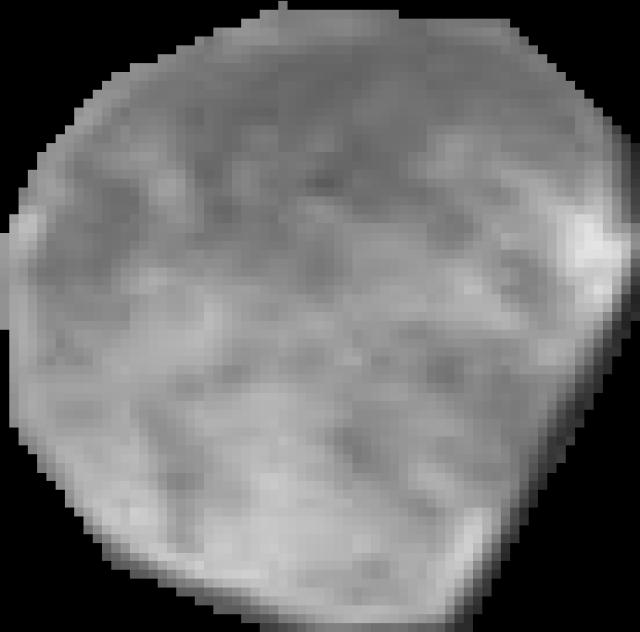tumor_moderate_chance: (0, 1, 640, 632)
